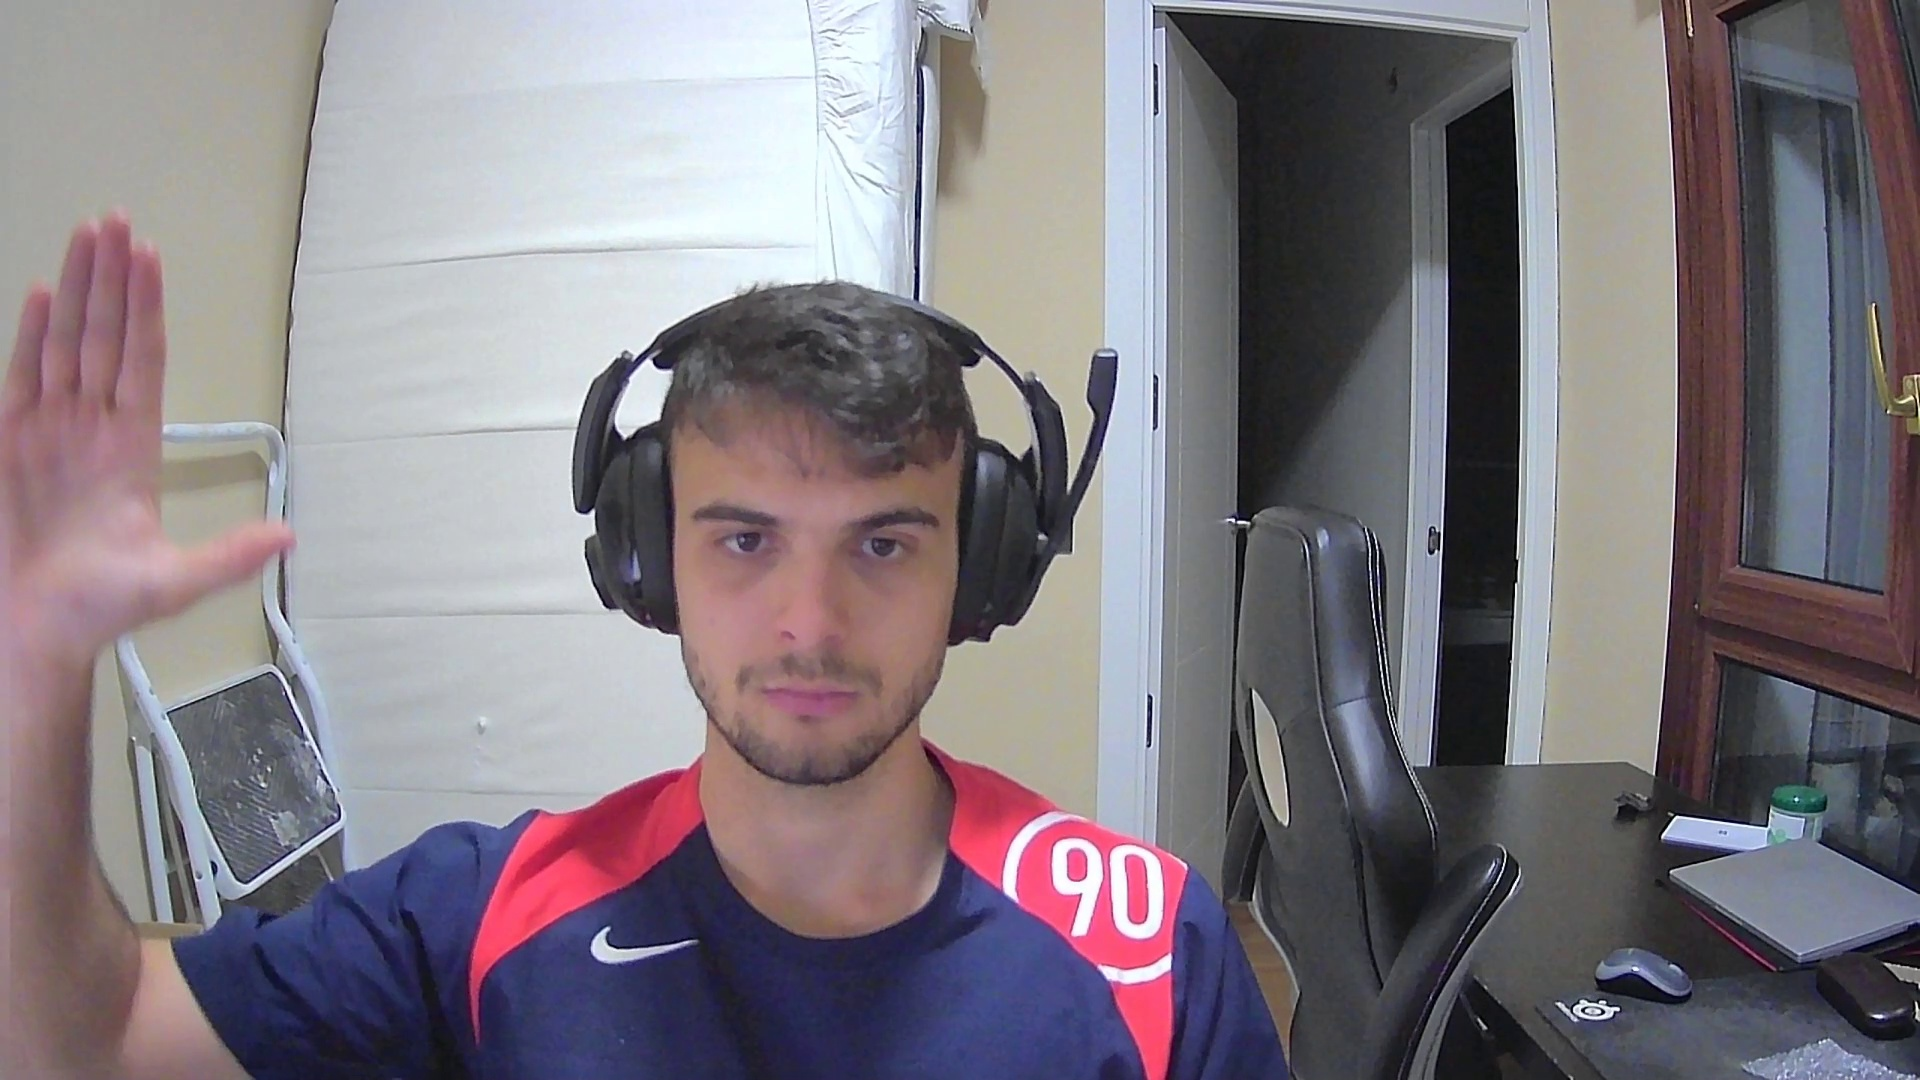Palm: (1, 207, 298, 649)
